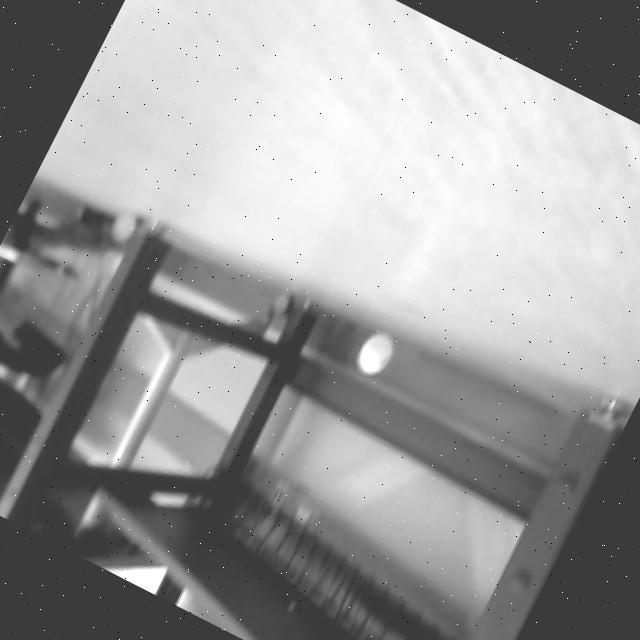ping-pong-ball: (347, 316, 407, 388)
